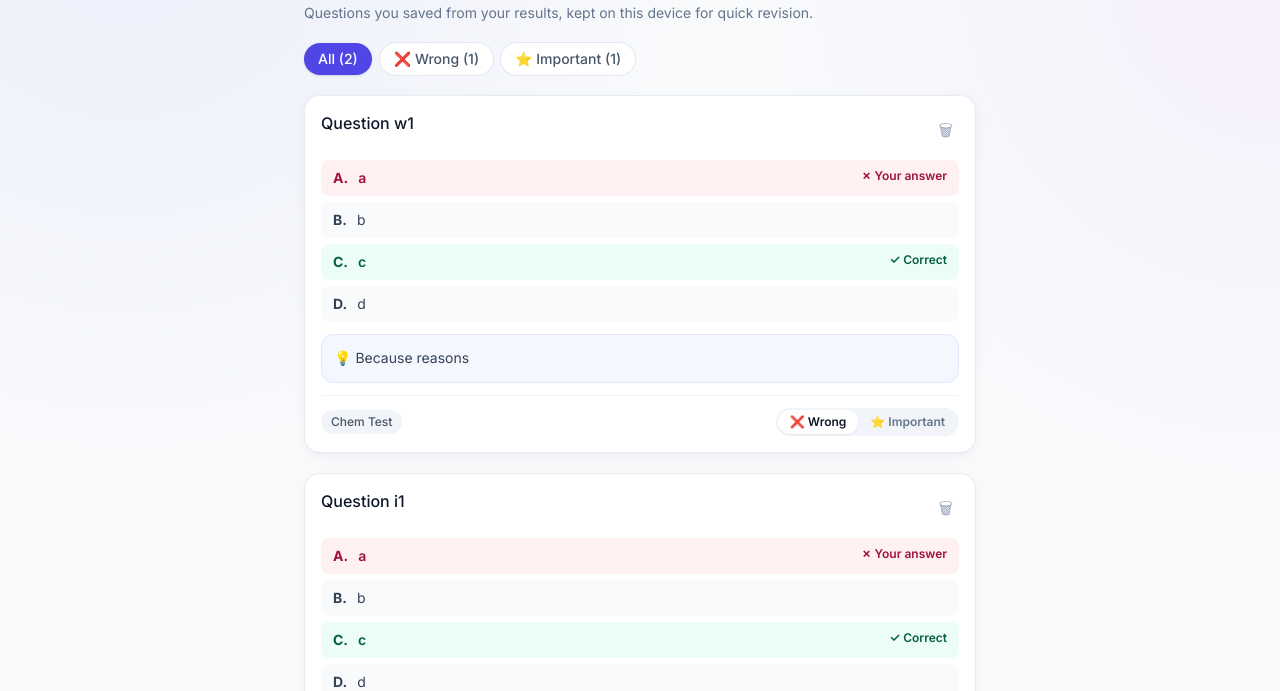
Test case: lists saved questions with the right answer marked, filters, relabels and removes
The width and height of the screenshot is (1280, 691).
Check: the text "Question w1" is shown, box [321,112,414,134]
Check: the text "Question i1" is shown, box [321,490,405,512]
Click the button "❌ Wrong (1)". click: (436, 59)
box: [380,43,493,75]
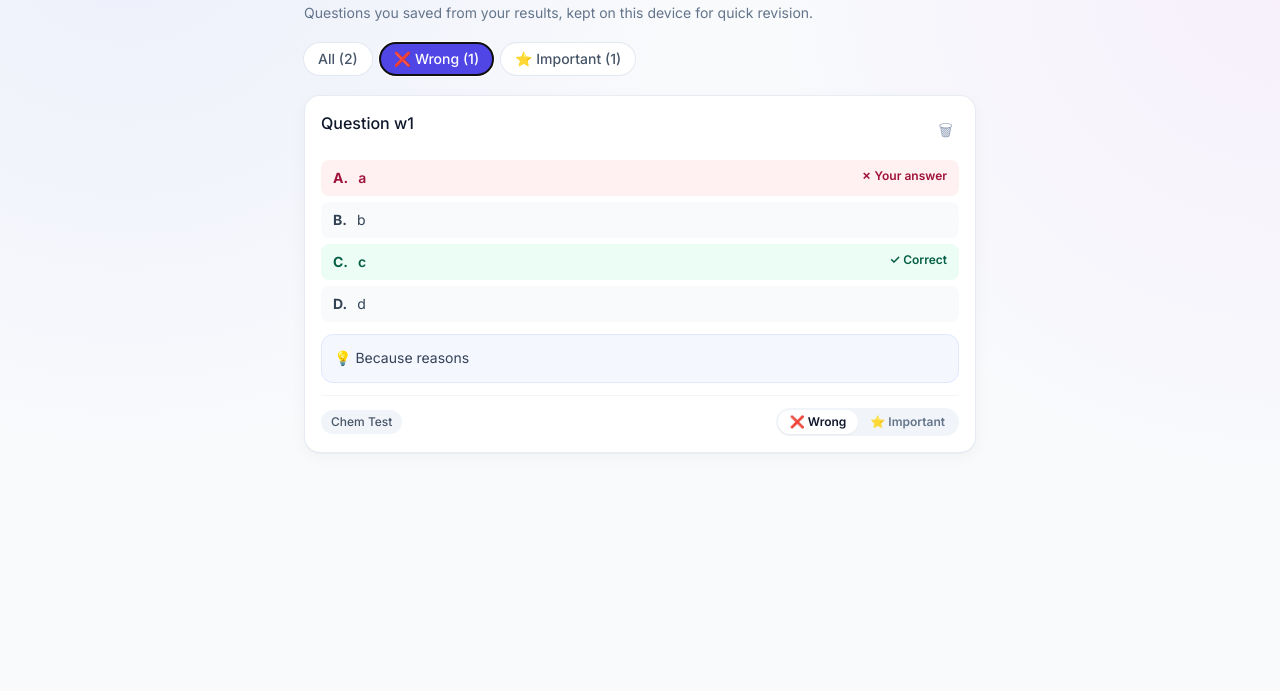
Check: the text "Question w1" is shown, box [321,112,414,134]
Check: the text "Question i1" is gone
Click the button "All (2)". click: (338, 59)
box: [304,43,372,75]
(page scrolled)
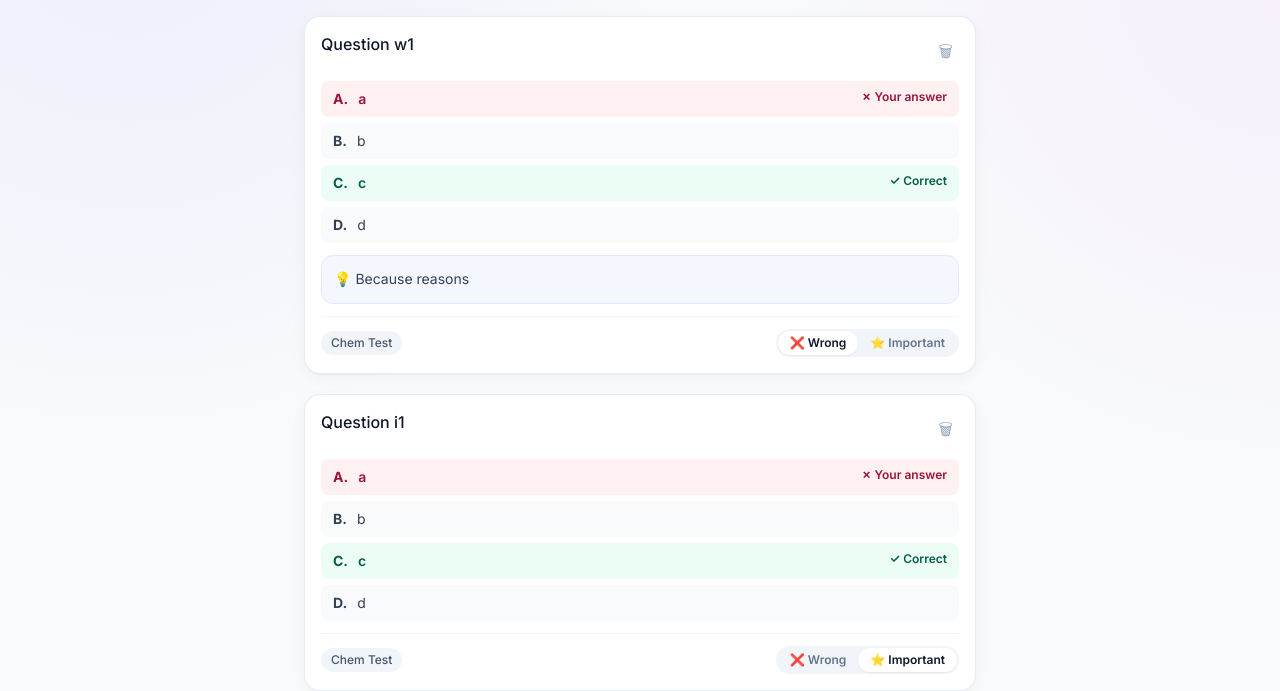
Click the 2nd button "❌ Wrong". click: (818, 660)
box: [778,648,858,672]
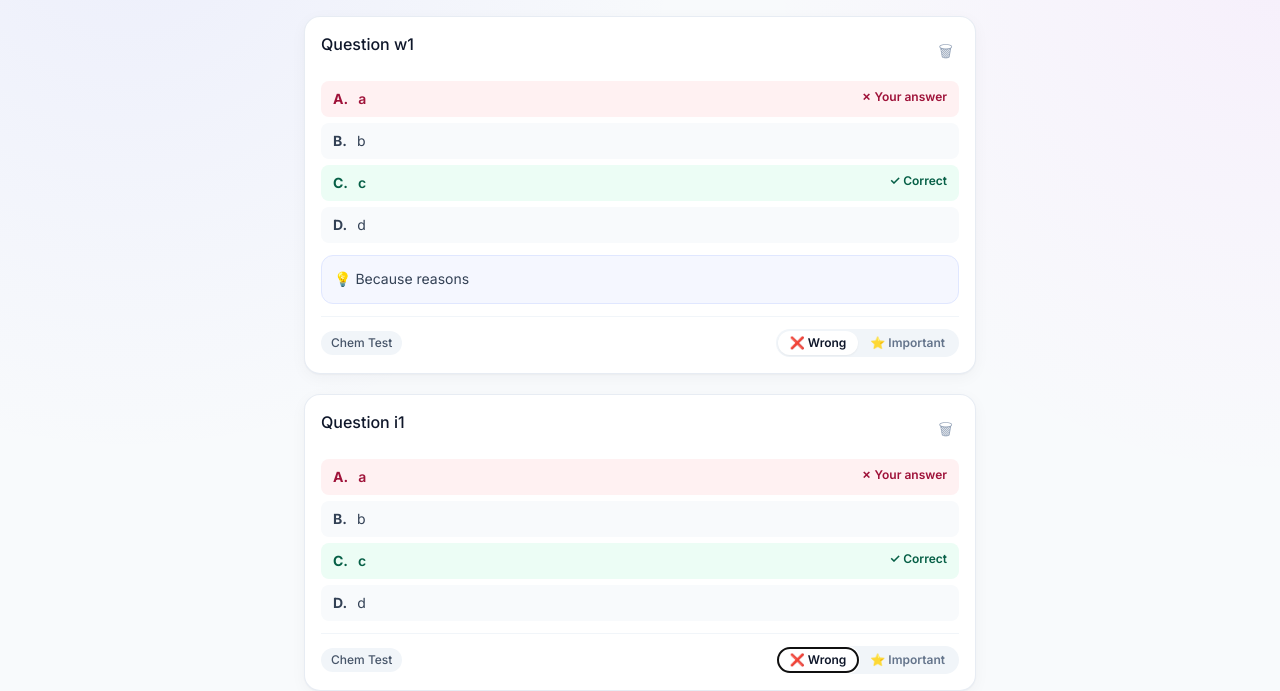
Click the button named "remove saved question". click: (946, 429)
box: [933,411,959,447]
(page scrolled)
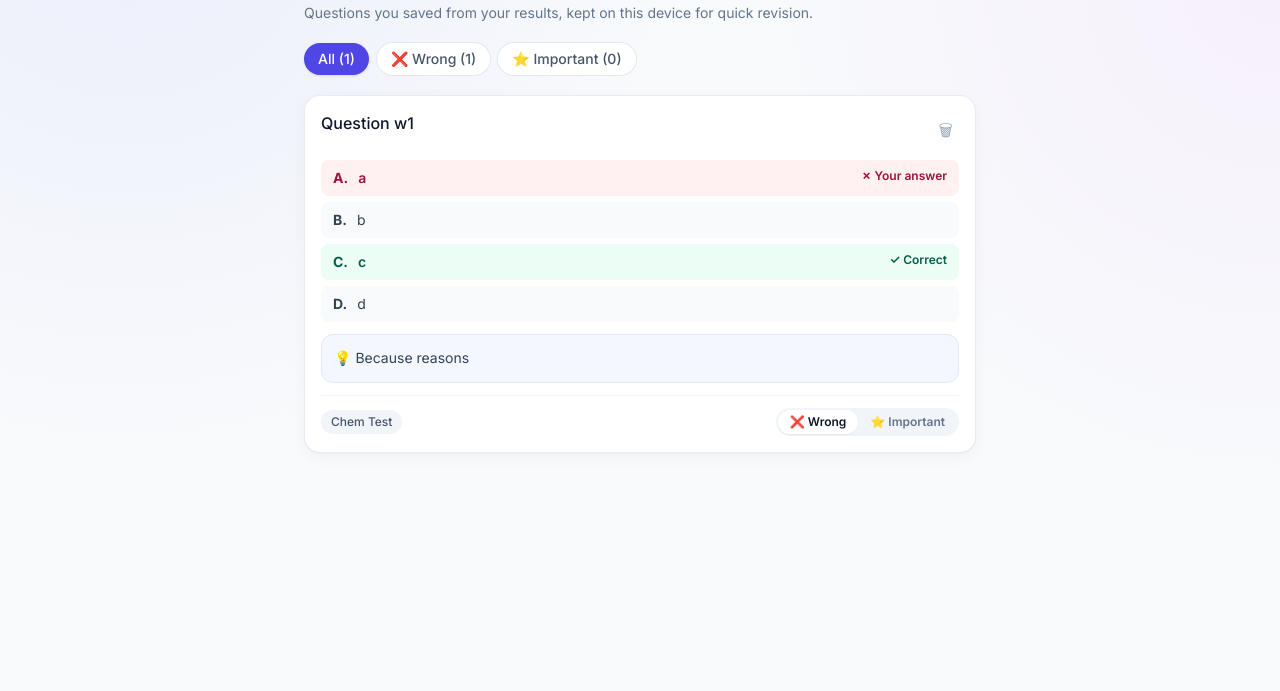
Check: the text "Question i1" is gone
